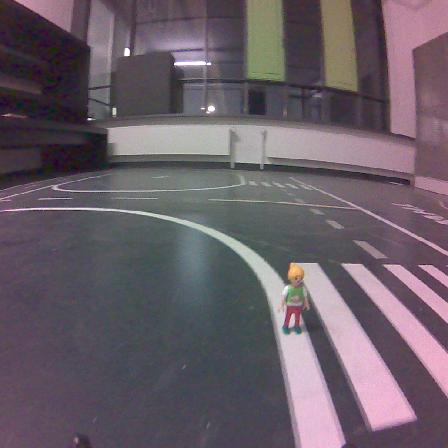CHILD: (279, 263, 309, 333)
